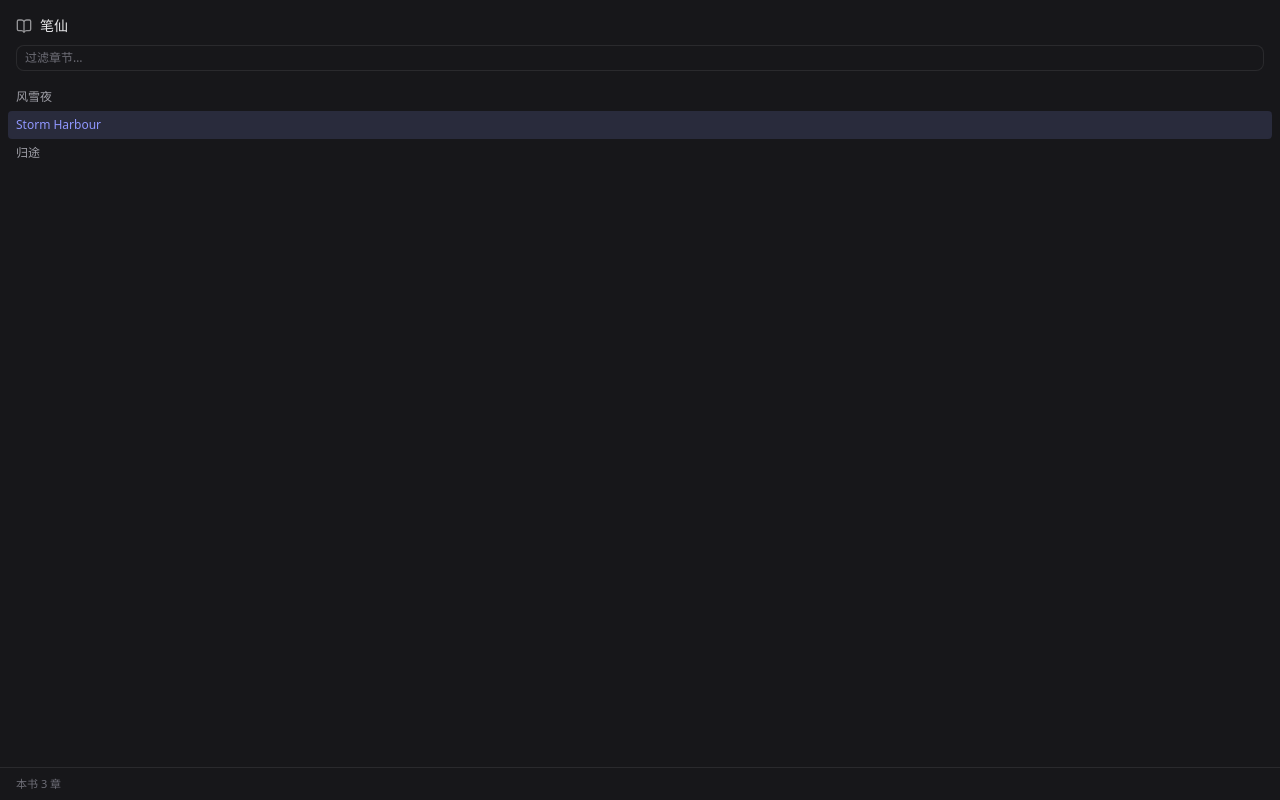
Test: NavPanel › 过滤无命中显示空态提示
Type "不存在的章" into the field with placeholder "过滤章节…" at {"x": 640, "y": 58}, box [16,45,1264,71]
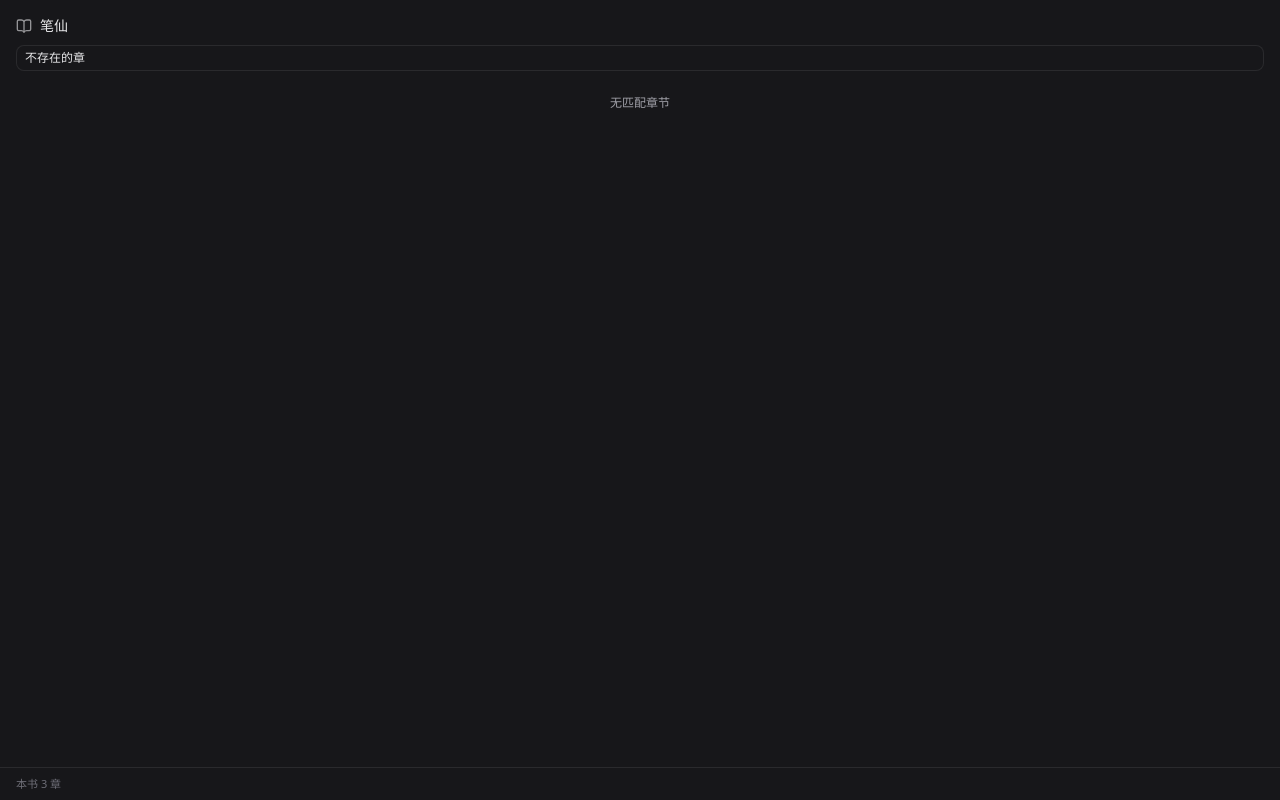
Check: the list item "无匹配章节" is shown, box [610,94,670,111]
